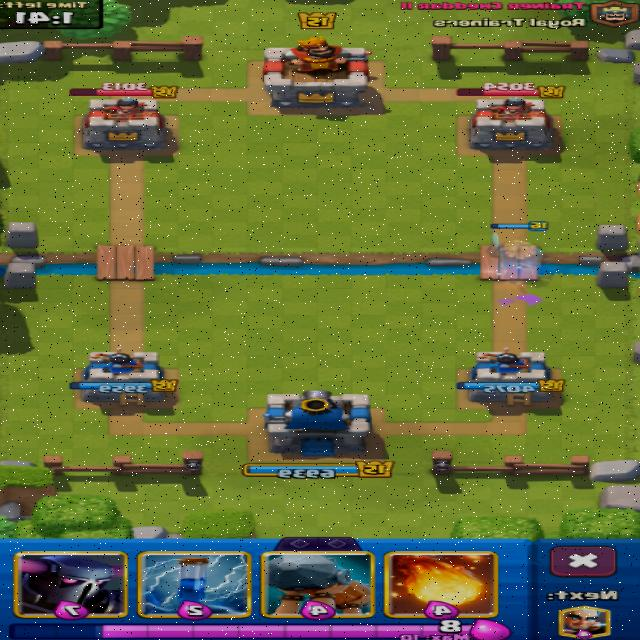Enemy-KingTower: (264, 37, 368, 109)
Enemy-PrincessTower: (471, 97, 553, 150), (85, 96, 165, 150)
Player-KingTower-Activated: (264, 389, 372, 456)
Player-PrincessTower: (457, 349, 565, 405), (72, 348, 165, 404)
Player-RoyalGhost: (490, 233, 540, 267)
